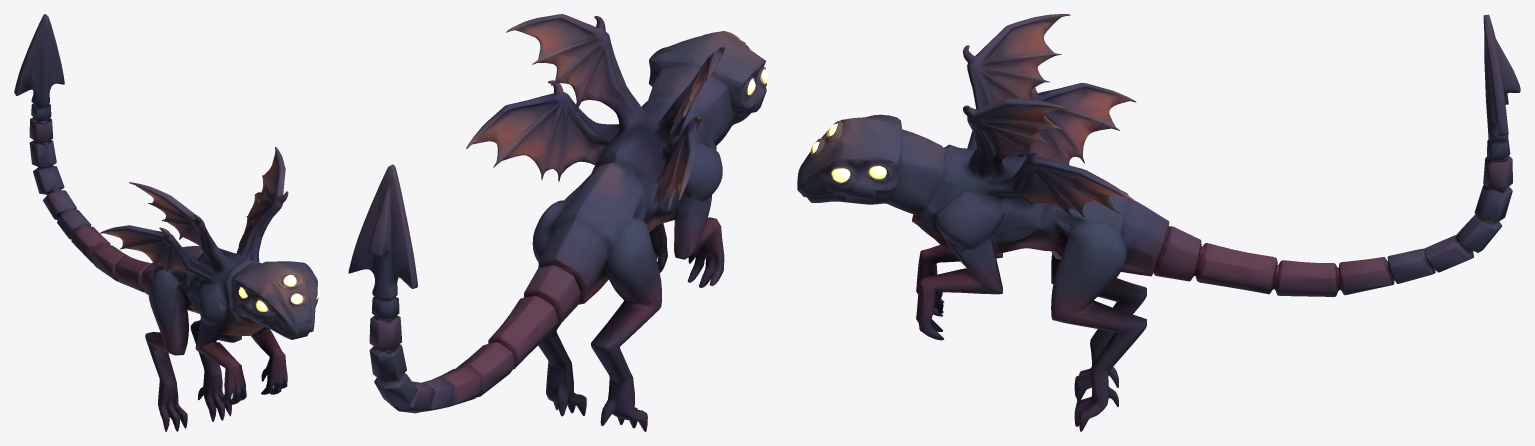
Rendered from Lyrack_Zurk_OS_MML_FINAL.glb.
3 views of the same model, side by side, from view 1: azimuth 30°, elevation 25°; view 2: azimuth 150°, elevation 25°; view 3: azimuth 270°, elevation 25° (orthographic). The views are drawn at different scales.
Parts seen in each view (by area): view 1: material; view 2: material; view 3: material.
Part boxes in pixels (left/top/right/bottom): material: left=14, top=14, right=319, bottom=431; material: left=348, top=14, right=768, bottom=431; material: left=797, top=14, right=1520, bottom=431.
Size of the model in its own units: 0.5462 by 1 by 1.66.
Materials: 1 (1 with a texture image).
